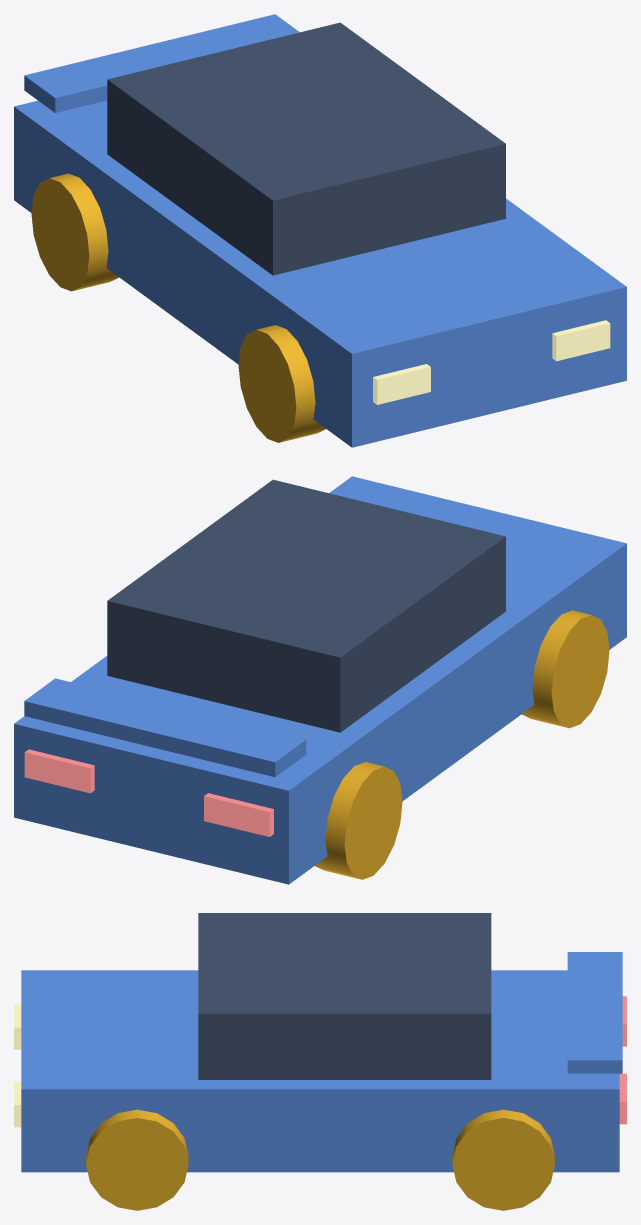
Rendered from car_4.glb.
3 renders of one model, top to bottom at view 1: azimuth 30°, elevation 25°; view 2: azimuth 150°, elevation 25°; view 3: azimuth 270°, elevation 25°, orthographic. The views are drawn at different scales.
Visible parts, largest first — view 1: chassis, cabin, spoiler, wheel_0, wheel_2, headlight_1, headlight_0; view 2: chassis, cabin, spoiler, wheel_2, wheel_0, taillight_1, taillight_0; view 3: chassis, cabin, wheel_1, wheel_3, spoiler.
Boxes of the visible parts, x1,y1,x2,y2 form: chassis: (14,100,626,447); cabin: (107,22,505,275); spoiler: (24,14,299,112); wheel_0: (238,325,325,442); wheel_2: (31,173,118,291); headlight_1: (552,320,610,361); headlight_0: (373,364,430,404); chassis: (14,476,626,884); cabin: (107,479,505,732); spoiler: (24,678,306,777); wheel_2: (315,762,402,879); wheel_0: (522,610,609,728); taillight_1: (24,749,94,793); taillight_0: (204,793,273,836); chassis: (21,970,619,1172); cabin: (198,913,491,1079); wheel_1: (86,1109,188,1210); wheel_3: (452,1109,554,1210); spoiler: (567,952,622,1073).
Size of the model in its own units: 2.62 by 1.62 by 5.02.
